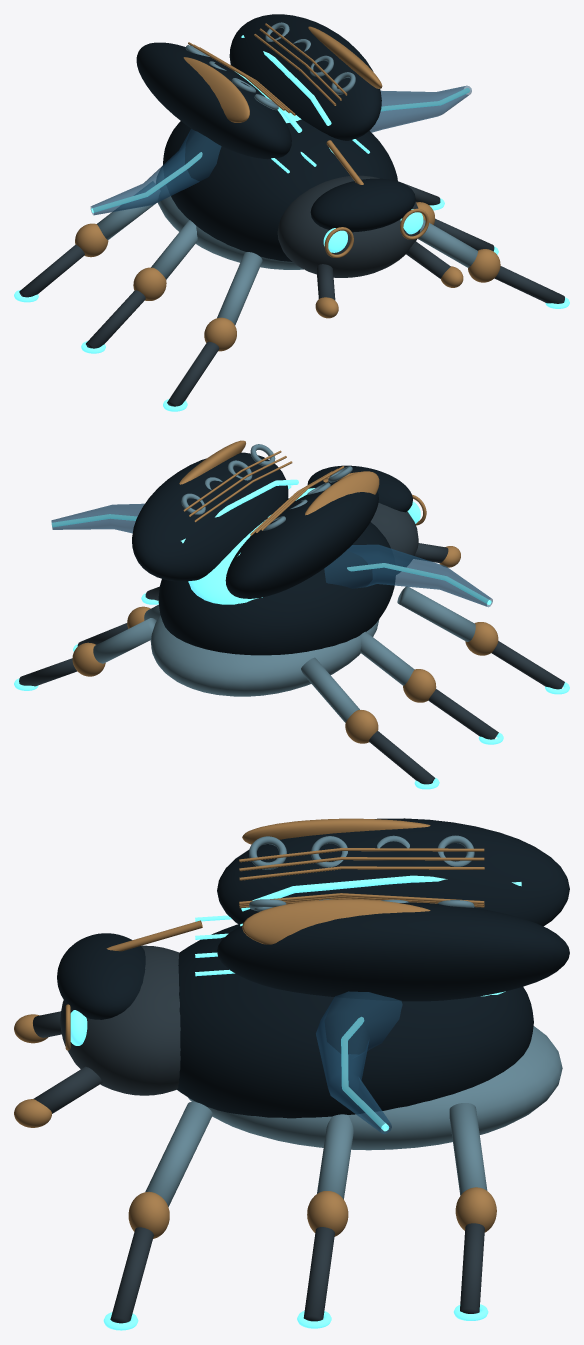
Rendered from atlas.glb.
3 views of the same model, one above another, from view 1: azimuth 30°, elevation 25°; view 2: azimuth 150°, elevation 25°; view 3: azimuth 270°, elevation 25° (orthographic). The views are drawn at different scales.
Parts seen in each view (by area): view 1: ATLAS | Primary thorax, ATLAS | Split armor wing1, ATLAS | Split armor wing-1, ATLAS | Frontal sensor head, ATLAS | Protective forehead shield, ATLAS | Inner retractable wing-1, ATLAS | Inner retractable wing1, ATLAS | Lower armored plate, ATLAS | Polished armor rail-1, ATLAS | Hydraulic upper leg-10, ATLAS | Hydraulic upper leg-12, ATLAS | Hydraulic upper leg10 (+15 smaller); view 2: ATLAS | Primary thorax, ATLAS | Split armor wing1, ATLAS | Split armor wing-1, ATLAS | Lower armored plate, ATLAS | Inner retractable wing-1, ATLAS | Frontal sensor head, ATLAS | Inner retractable wing1, ATLAS | Hydraulic upper leg-10, ATLAS | Glowing underwing core, ATLAS | Protective forehead shield, ATLAS | Hydraulic upper leg-12, ATLAS | Hydraulic upper leg12 (+15 smaller); view 3: ATLAS | Primary thorax, ATLAS | Split armor wing1, ATLAS | Split armor wing-1, ATLAS | Lower armored plate, ATLAS | Frontal sensor head, ATLAS | Inner retractable wing1, ATLAS | Protective forehead shield, ATLAS | Polished armor rail1, ATLAS | Hydraulic upper leg10, ATLAS | Hydraulic upper leg12, ATLAS | Polished armor rail-1, ATLAS | Hydraulic upper leg11 (+15 smaller).
Boxes of the visible parts, left/top/right/bottom form: ATLAS | Primary thorax: left=163, top=119, right=397, bottom=261; ATLAS | Split armor wing1: left=229, top=14, right=381, bottom=140; ATLAS | Split armor wing-1: left=136, top=42, right=291, bottom=159; ATLAS | Frontal sensor head: left=277, top=175, right=420, bottom=277; ATLAS | Protective forehead shield: left=310, top=178, right=415, bottom=232; ATLAS | Inner retractable wing-1: left=90, top=129, right=221, bottom=215; ATLAS | Inner retractable wing1: left=369, top=85, right=471, bottom=132; ATLAS | Lower armored plate: left=156, top=166, right=303, bottom=269; ATLAS | Polished armor rail-1: left=183, top=57, right=249, bottom=122; ATLAS | Hydraulic upper leg-10: left=217, top=252, right=262, bottom=325; ATLAS | Hydraulic upper leg-12: left=97, top=181, right=160, bottom=239; ATLAS | Hydraulic upper leg10: left=417, top=219, right=477, bottom=267; ATLAS | Primary thorax: left=158, top=498, right=395, bottom=655; ATLAS | Split armor wing1: left=132, top=452, right=288, bottom=581; ATLAS | Split armor wing-1: left=225, top=484, right=378, bottom=598; ATLAS | Lower armored plate: left=150, top=615, right=379, bottom=696; ATLAS | Inner retractable wing-1: left=324, top=544, right=492, bottom=607; ATLAS | Frontal sensor head: left=309, top=487, right=418, bottom=574; ATLAS | Inner retractable wing1: left=51, top=503, right=144, bottom=533; ATLAS | Hydraulic upper leg-10: left=397, top=586, right=475, bottom=641; ATLAS | Glowing underwing core: left=188, top=520, right=265, bottom=604; ATLAS | Protective forehead shield: left=307, top=465, right=412, bottom=512; ATLAS | Hydraulic upper leg-12: left=301, top=657, right=359, bottom=722; ATLAS | Hydraulic upper leg12: left=93, top=618, right=156, bottom=663; ATLAS | Primary thorax: left=177, top=924, right=533, bottom=1118; ATLAS | Split armor wing1: left=217, top=902, right=569, bottom=1001; ATLAS | Split armor wing-1: left=217, top=818, right=569, bottom=926; ATLAS | Lower armored plate: left=188, top=1026, right=562, bottom=1150; ATLAS | Frontal sensor head: left=60, top=945, right=180, bottom=1095; ATLAS | Inner retractable wing1: left=316, top=991, right=402, bottom=1133; ATLAS | Protective forehead shield: left=57, top=933, right=145, bottom=1019; ATLAS | Polished armor rail1: left=242, top=899, right=430, bottom=944; ATLAS | Hydraulic upper leg10: left=145, top=1102, right=212, bottom=1206; ATLAS | Hydraulic upper leg12: left=449, top=1103, right=487, bottom=1195; ATLAS | Polished armor rail-1: left=242, top=818, right=430, bottom=844; ATLAS | Hydraulic upper leg11: left=317, top=1114, right=353, bottom=1199.
Bounding box in the file's own units: 4.28 × 2.31 × 3.5.
